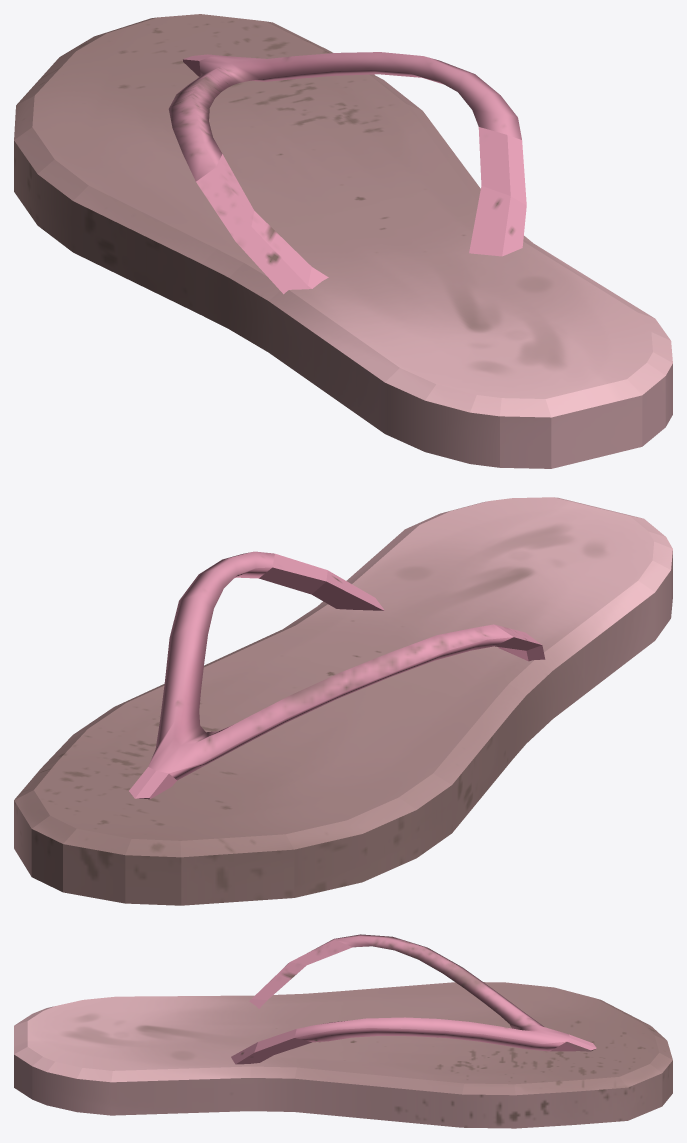
File: pinkFlipFlop_Left.FBX
3 renders of one model, top to bottom at view 1: azimuth 30°, elevation 25°; view 2: azimuth 150°, elevation 25°; view 3: azimuth 270°, elevation 25°, orthographic. The views are drawn at different scales.
Visible parts, largest first — view 1: pinkFlipFlop_Left; view 2: pinkFlipFlop_Left; view 3: pinkFlipFlop_Left.
Part boxes in pixels (box(x1,y1,x2,y2)): pinkFlipFlop_Left: box(14, 14, 672, 468); pinkFlipFlop_Left: box(14, 497, 672, 905); pinkFlipFlop_Left: box(14, 934, 672, 1128).
Bounding box in the file's own units: 11.76 × 4.84 × 29.02.
1 material, 1 textured.
